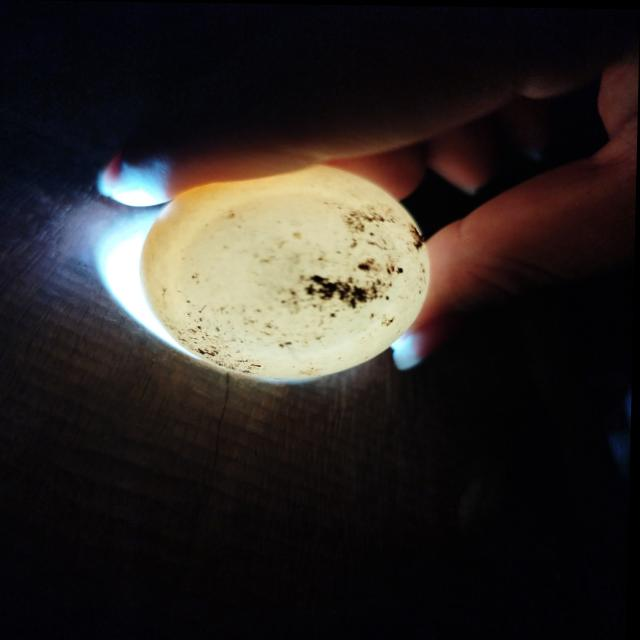Camara de Ar: (182, 201, 399, 345)
